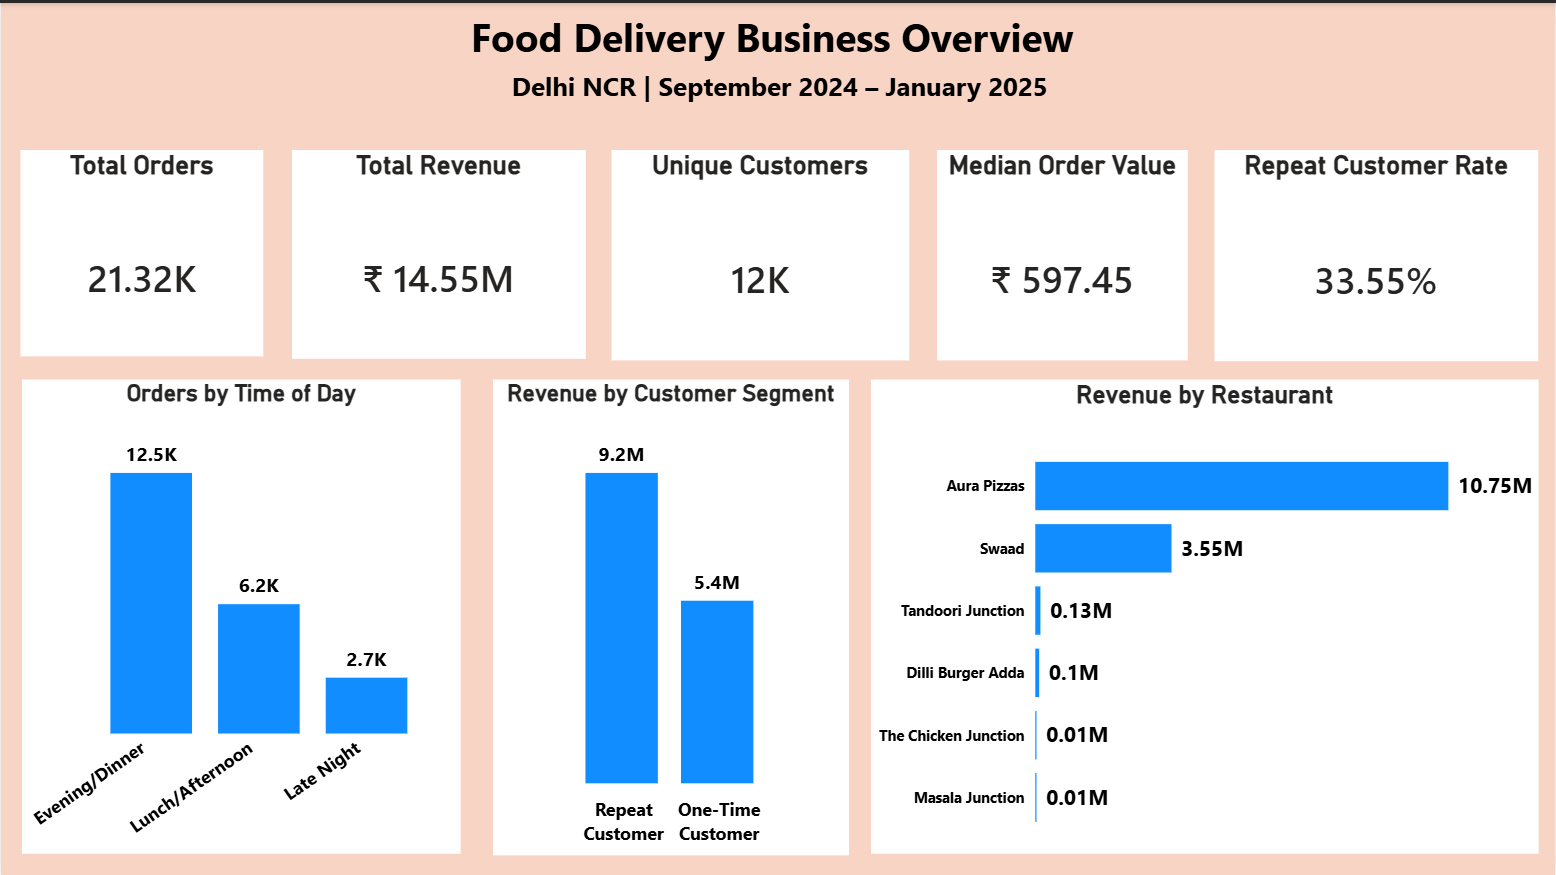

What the dashboard file says about the page in this screenshot:
{"tool":"powerbi","page":{"name":"Business Overview","canvas":[1280,720],"ordinal":0},"visuals":[{"type":"cardVisual","title":"Total Orders","fields":{"Data":["food_delivery_dashboard_data.Total Orders"]},"box":[16.7,121.7,200,170],"z":0},{"type":"cardVisual","title":"Total Revenue","fields":{"Data":["food_delivery_dashboard_data.Total Revenue"]},"box":[239.2,121.7,241.7,171.7],"z":1000},{"type":"cardVisual","title":"Unique Customers","fields":{"Data":["food_delivery_dashboard_data.Unique Customers"]},"box":[503.3,121.7,245,173.3],"z":2000},{"type":"cardVisual","title":"Median Order Value","fields":{"Data":["food_delivery_dashboard_data.Median Order Value"]},"box":[770.8,121.7,206.7,173.3],"z":3000},{"type":"cardVisual","title":"Repeat Customer Rate","fields":{"Data":["food_delivery_dashboard_data.Repeat Customer Rate"]},"box":[1000,121.2,266.7,174.2],"z":4000},{"type":"clusteredColumnChart","title":"Orders by Time of Day","fields":{"Category":["food_delivery_dashboard_data.Time_of_Day"],"Y":["Count(food_delivery_dashboard_data.Order ID)"]},"box":[17.3,310.7,361.3,390.7],"z":5000},{"type":"clusteredColumnChart","title":"Revenue by Customer Segment","fields":{"Category":["Customer Type.Customer Type"],"Y":["food_delivery_dashboard_data.Customer Type Revenue"]},"box":[405.3,310.7,293.3,391.7],"z":6000},{"type":"clusteredBarChart","title":"Revenue by Restaurant","fields":{"Category":["food_delivery_dashboard_data.Restaurant name"],"Y":["Sum(food_delivery_dashboard_data.Total)"]},"box":[716.7,310.6,550,390.9],"z":7000},{"type":"textbox","box":[25.3,0,1218.7,106.7],"z":8000}]}

Visuals, with their boxes in screenshot pixels (x1, y1, x2, y2), scaled from the page's 1280x720 canvas onto the 1556x875 screenshot:
"Total Orders" cardVisual: [20,148,263,354]
"Total Revenue" cardVisual: [291,148,585,357]
"Unique Customers" cardVisual: [612,148,910,359]
"Median Order Value" cardVisual: [937,148,1188,359]
"Repeat Customer Rate" cardVisual: [1216,147,1540,359]
"Orders by Time of Day" clusteredColumnChart: [21,378,460,852]
"Revenue by Customer Segment" clusteredColumnChart: [493,378,849,854]
"Revenue by Restaurant" clusteredBarChart: [871,377,1540,853]
textbox: [31,0,1512,130]
